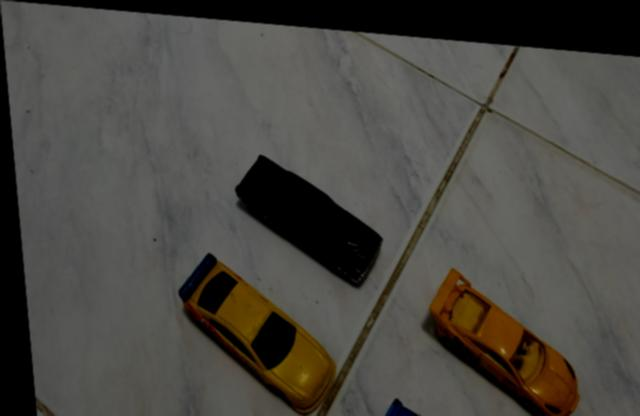01_FORD: (231, 151, 379, 283)
02_OZSOME: (171, 250, 331, 411)
04_MERZEDES: (373, 393, 428, 416)
07_RHLTURBO: (424, 262, 575, 416)
